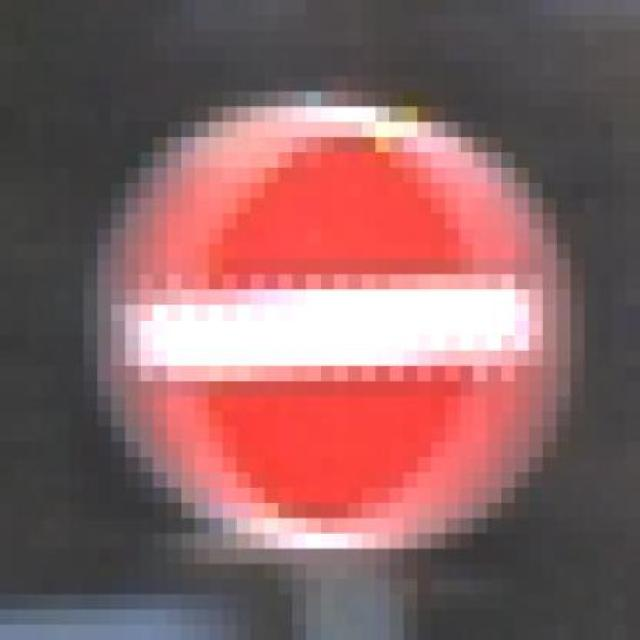No Entry: (70, 76, 612, 564)
